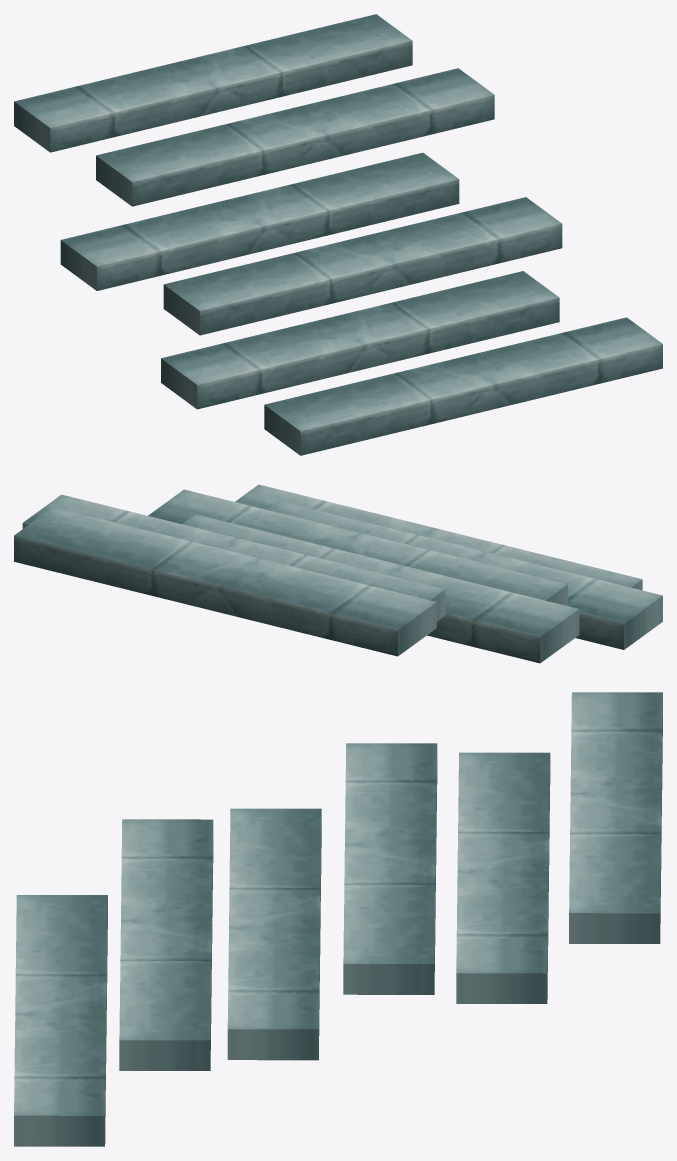
The model's file is SJZC_Item_04.FBX.
3 renders of one model, top to bottom at view 1: azimuth 30°, elevation 25°; view 2: azimuth 150°, elevation 25°; view 3: azimuth 270°, elevation 25°, orthographic. The views are drawn at different scales.
Parts seen in each view (by area): view 1: SJZC_Item_04; view 2: SJZC_Item_04; view 3: SJZC_Item_04.
Boxes of the visible parts, <box> form: SJZC_Item_04: <box>14,14,662,455</box>; SJZC_Item_04: <box>14,484,662,663</box>; SJZC_Item_04: <box>14,692,662,1146</box>.
Size of the model in its own units: 691 by 258 by 703.
